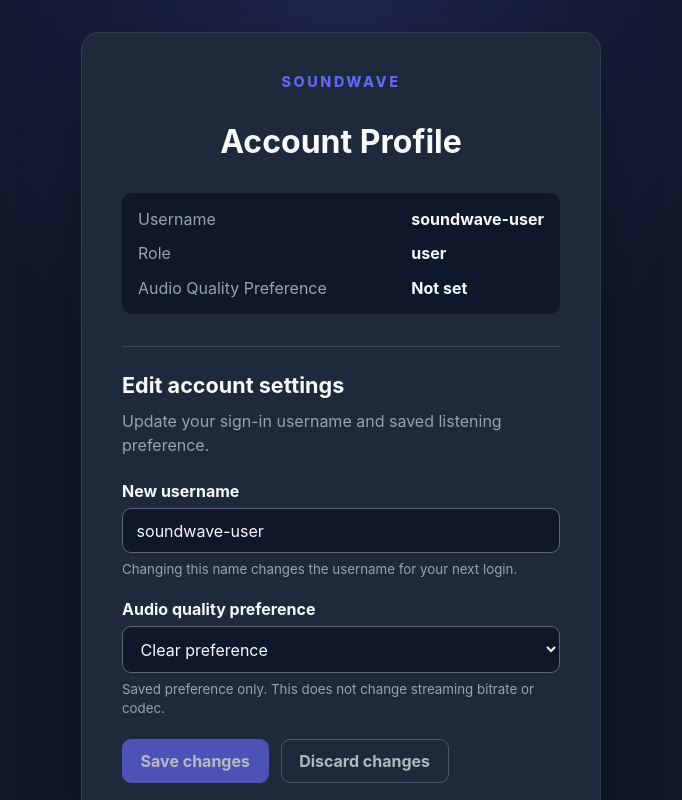
Test: SCRUM-359 profile editor › saves audio quality independently and never implies playback transcoding
Select "High" in the dropdown labelled "Audio quality preference": (341,650) [122,626,560,673]
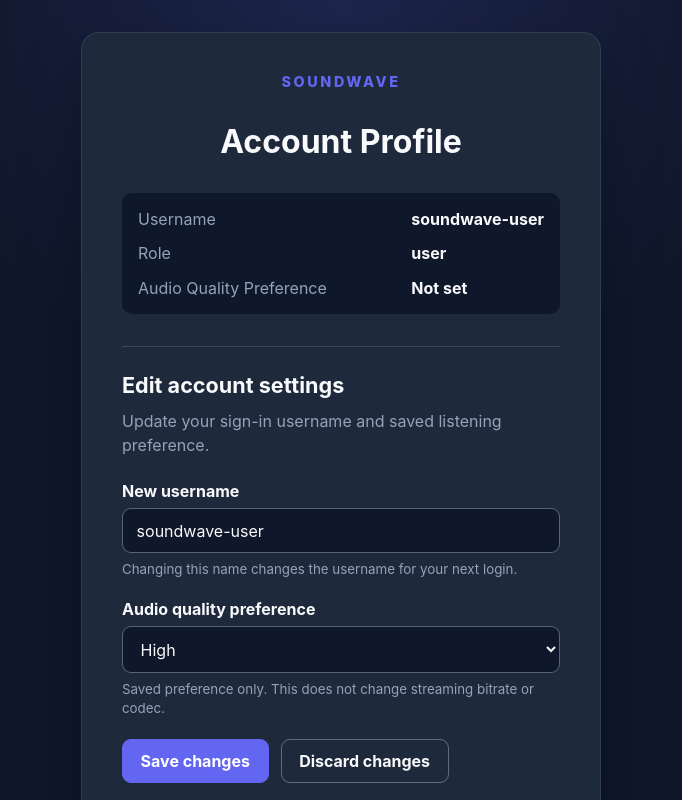
Click the button "Save changes": (195,761) [122,739,268,783]
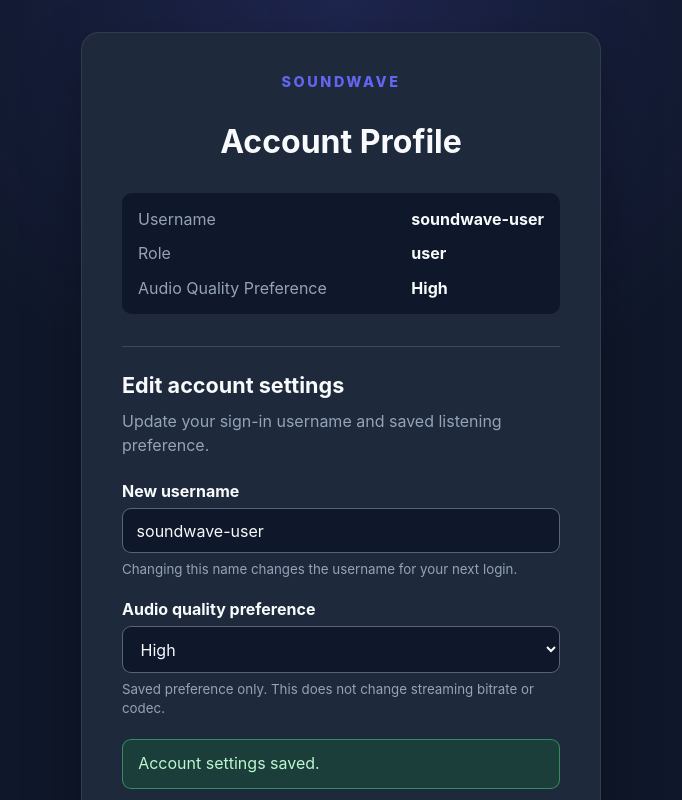
Result: the message "Account settings saved." is shown at [122,739,560,790]
Result: the text "High" is shown at [411,278,448,298]
